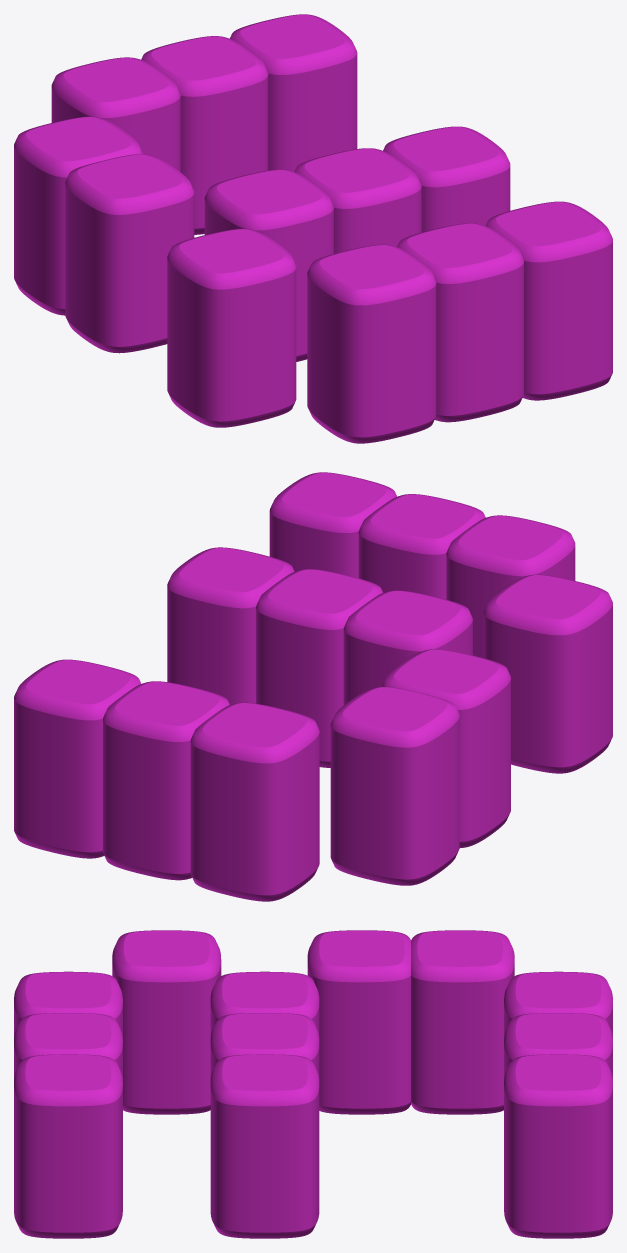
Rendered from Number_3.fbx.
3 views of the same model, one above another, from view 1: azimuth 30°, elevation 25°; view 2: azimuth 150°, elevation 25°; view 3: azimuth 270°, elevation 25° (orthographic). The views are drawn at different scales.
Parts seen in each view (by area): view 1: Number_3; view 2: Number_3; view 3: Number_3.
Boxes of the visible parts, x1,y1,x2,y2 form: Number_3: (14,14,612,443); Number_3: (14,472,612,901); Number_3: (14,930,612,1238).
Bounding box in the file's own units: 0.3465 × 0.14 × 0.5157.
